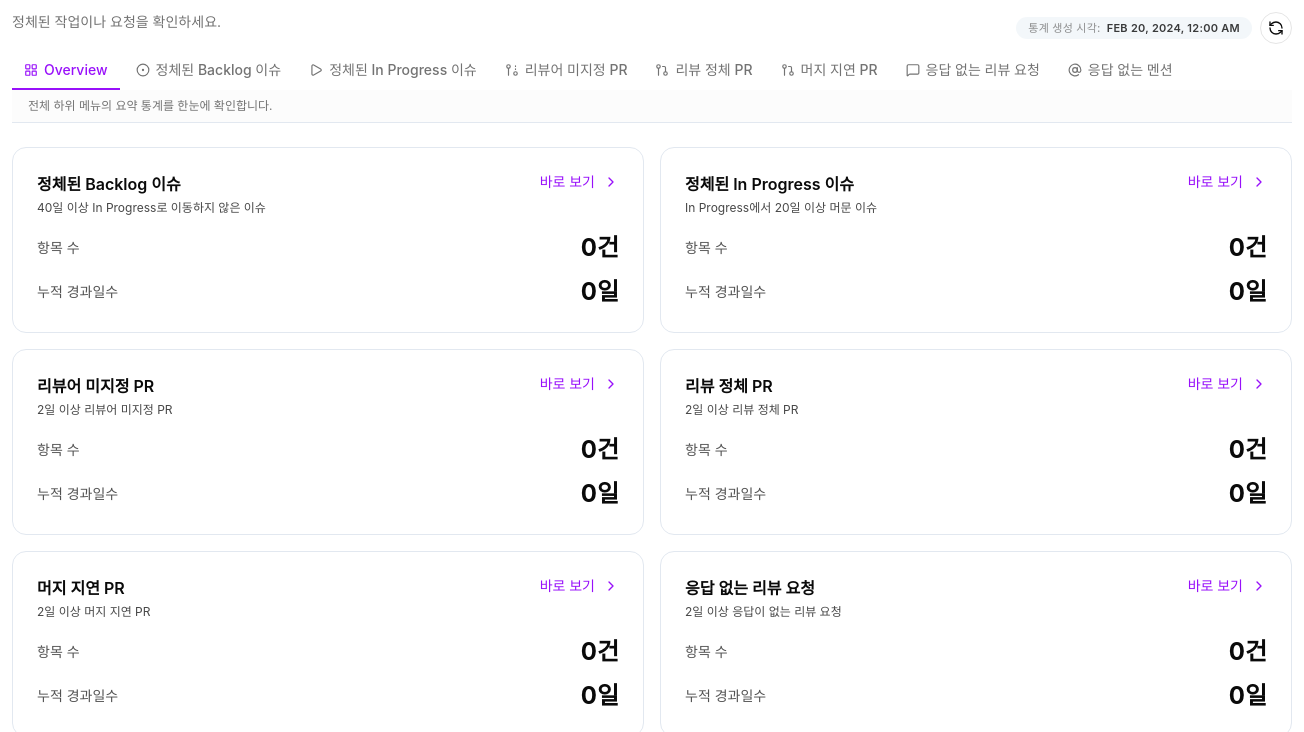
AttentionView merge-delayed pull requests › renders empty state messaging when no merge-delayed pull requests exist
The width and height of the screenshot is (1304, 732).
Expected: the 1st text "0건" is shown, top-left (581, 232), bottom-right (619, 264)
Expected: the 1st text "0일" is shown, top-left (581, 276), bottom-right (619, 308)
Click the button "머지 지연 PR" at (829, 71), box top-left (768, 52), bottom-right (890, 90)
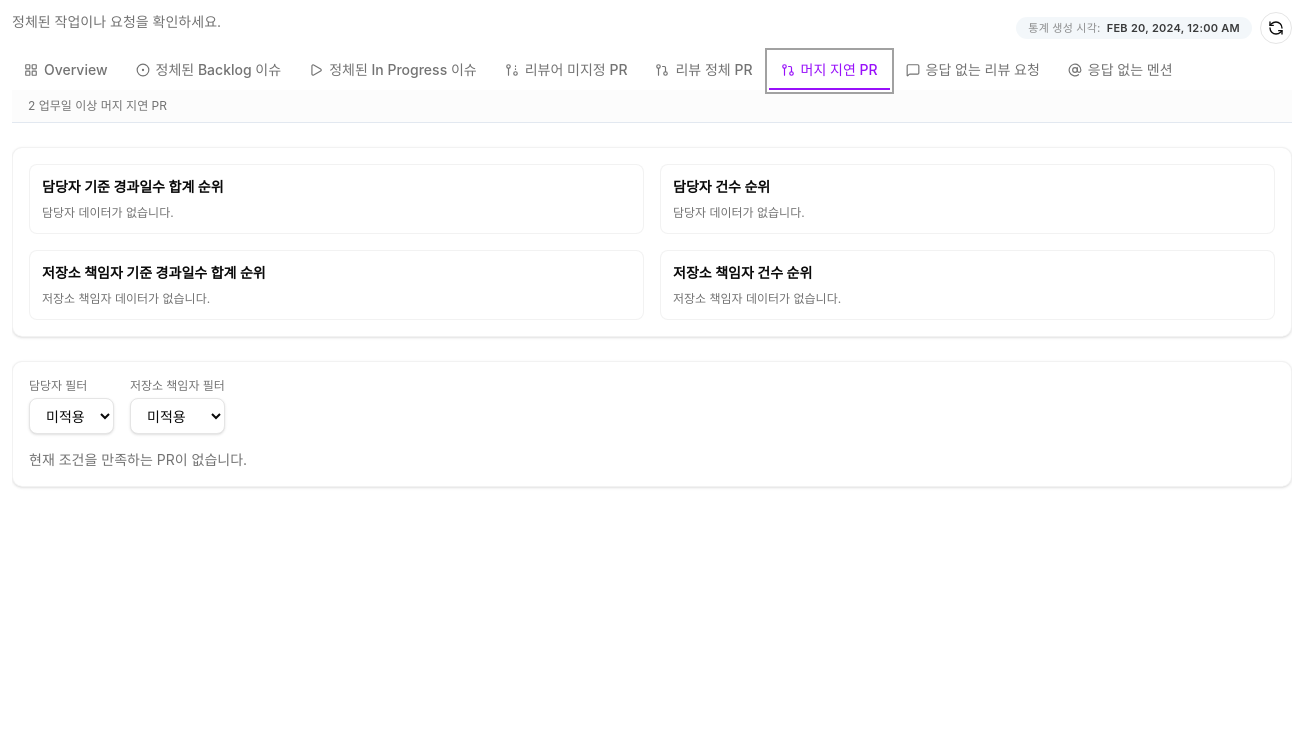
Result: the text "현재 조건을 만족하는 PR이 없습니다." is shown at top-left (29, 451), bottom-right (247, 468)
Result: the text "담당자 기준 경과일수 합계 순위" is shown at top-left (42, 178), bottom-right (224, 195)
Result: the text "담당자 데이터가 없습니다." below "담당자 기준 경과일수 합계 순위" is shown at top-left (42, 205), bottom-right (174, 220)
